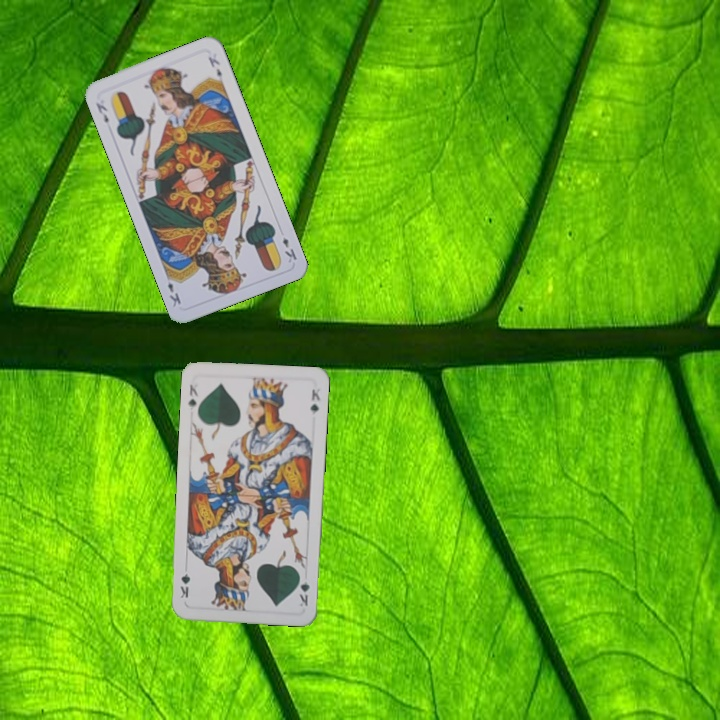EK: (278, 233, 299, 265), (92, 98, 111, 126)
GK: (295, 570, 312, 609), (184, 380, 201, 410)
